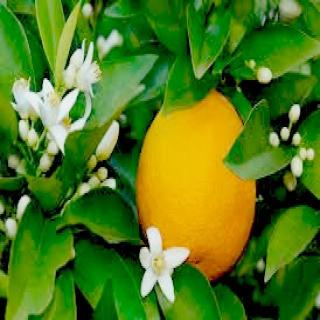orange: (138, 54, 268, 306)
